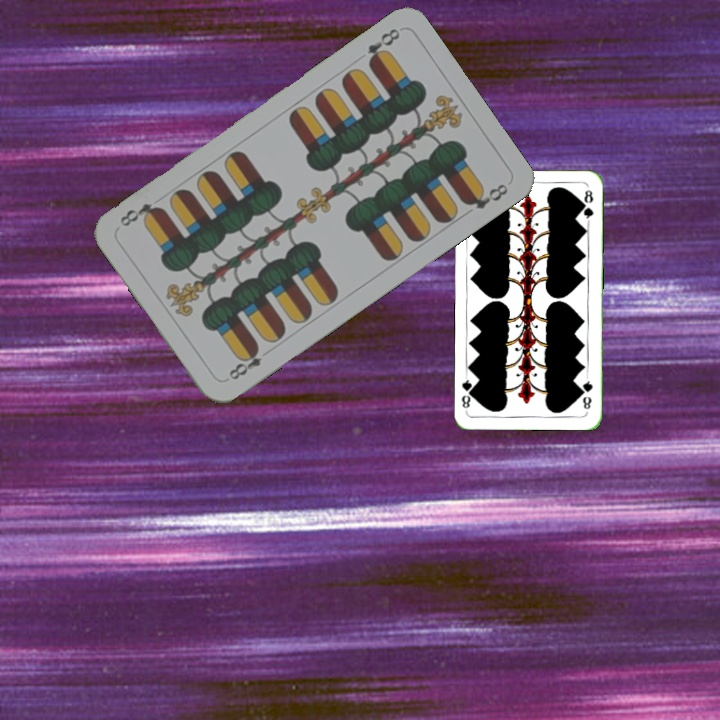E8: (362, 24, 403, 68), (224, 342, 264, 383)
G8: (578, 373, 595, 412)
